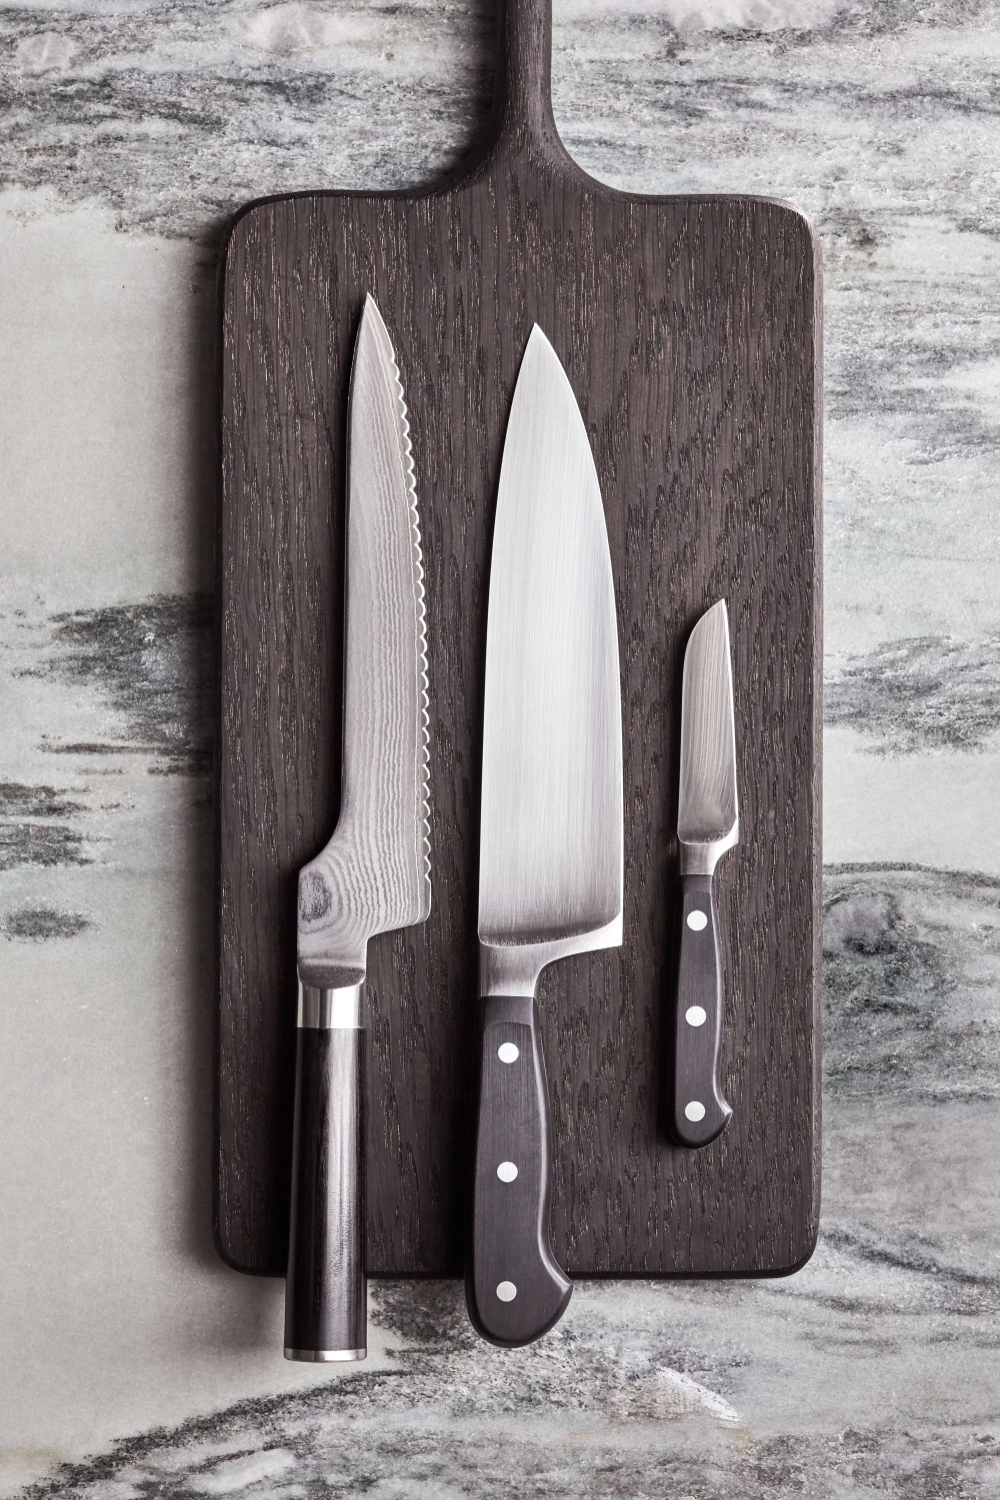knife: (437, 254, 641, 1404), (270, 282, 456, 1420), (662, 564, 799, 1167)
